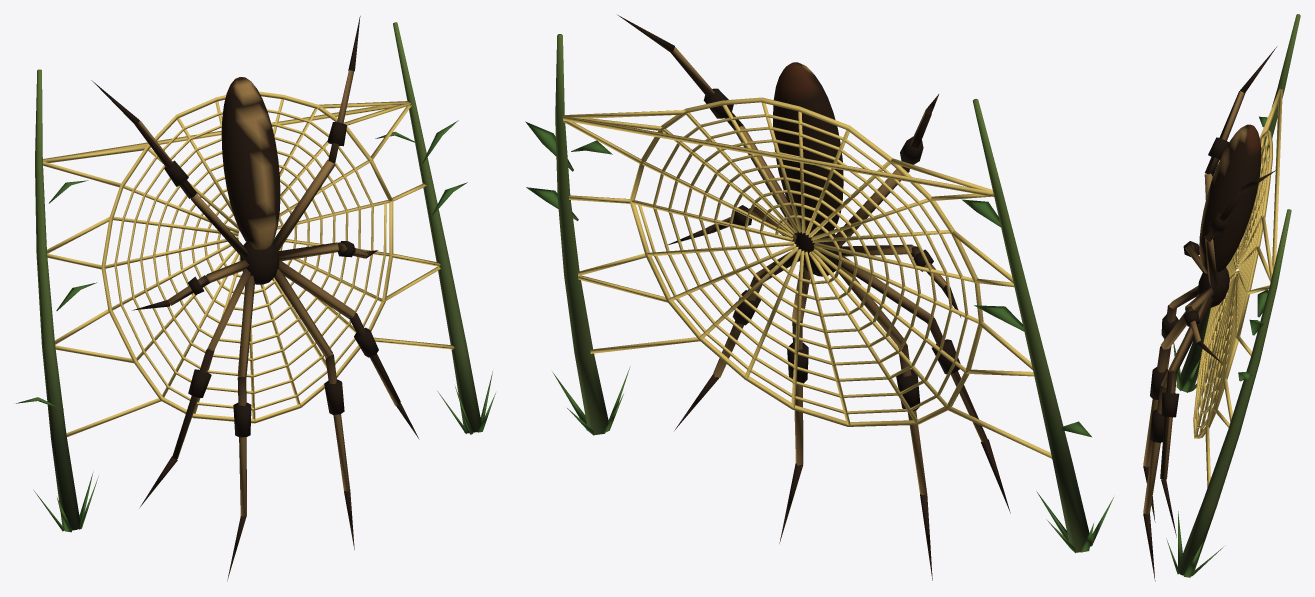
Rendered from NephilaJurassica.fbx.
3 views of the same model, side by side, from view 1: azimuth 30°, elevation 25°; view 2: azimuth 150°, elevation 25°; view 3: azimuth 270°, elevation 25° (orthographic). The views are drawn at different scales.
Parts seen in each view (by area): view 1: NephilaJurassica; view 2: NephilaJurassica; view 3: NephilaJurassica.
Boxes of the visible parts, bbox=[...] form: NephilaJurassica: bbox=[16, 16, 495, 581]; NephilaJurassica: bbox=[525, 15, 1113, 580]; NephilaJurassica: bbox=[1143, 14, 1300, 581].
Bounding box in the file's own units: 2.01 × 2.01 × 0.6267.
